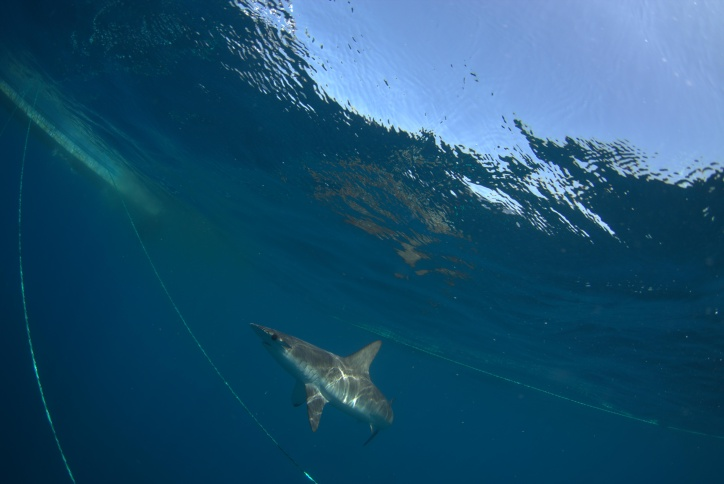Hammer: (230, 307, 423, 462)
